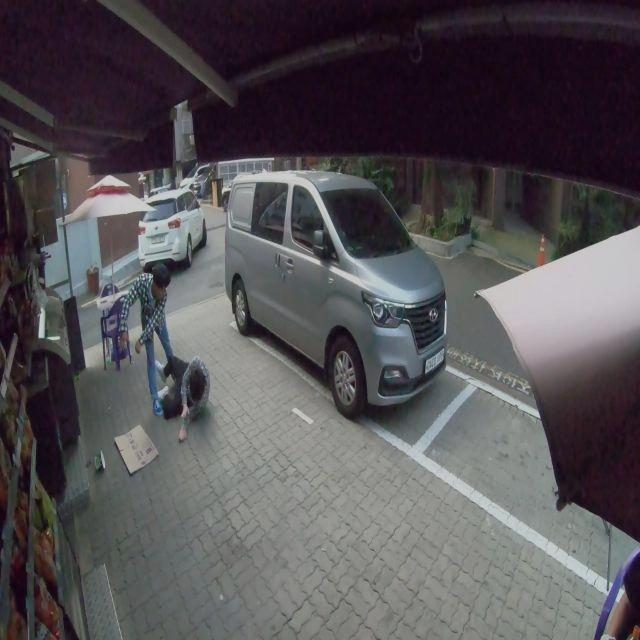fight: (132, 260, 211, 437)
